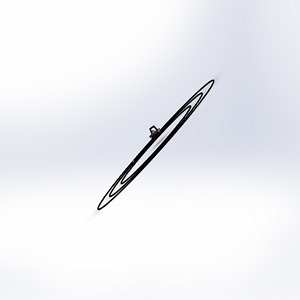circle: (85, 68, 222, 219)
submarine: (140, 119, 167, 142)
